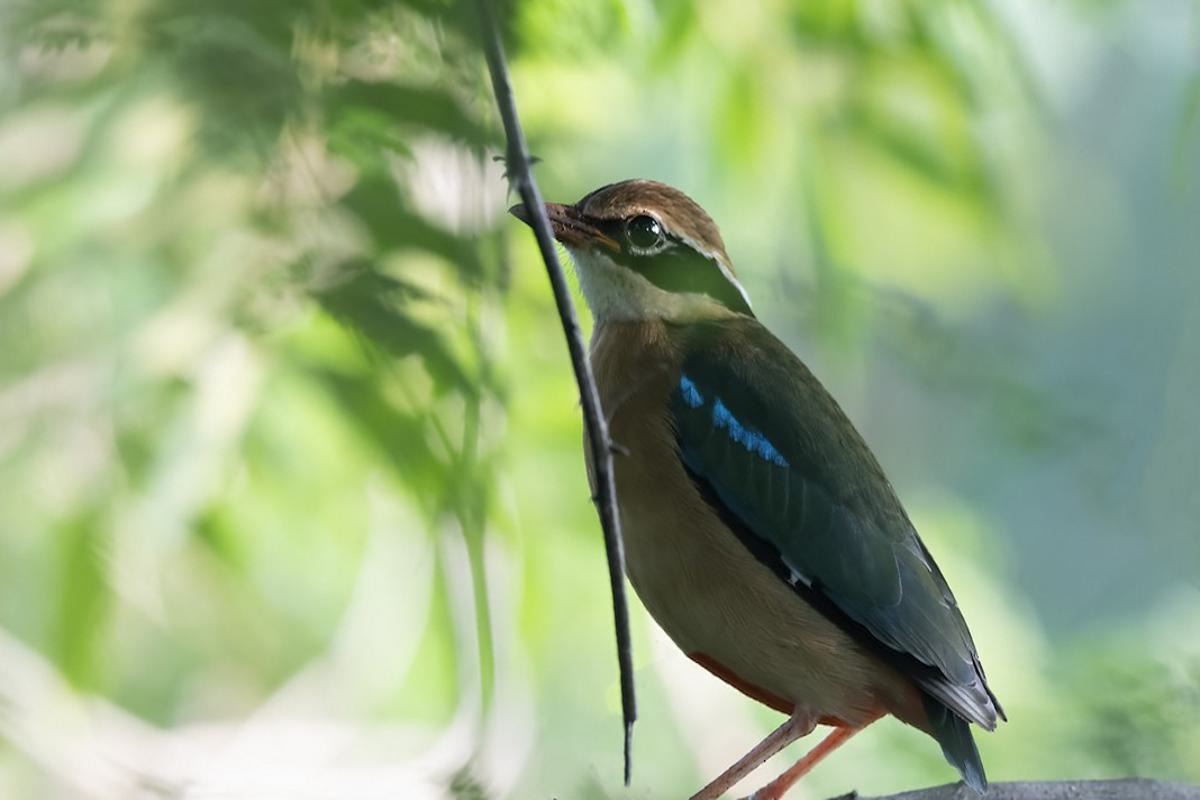pitta: (485, 142, 1020, 790)
